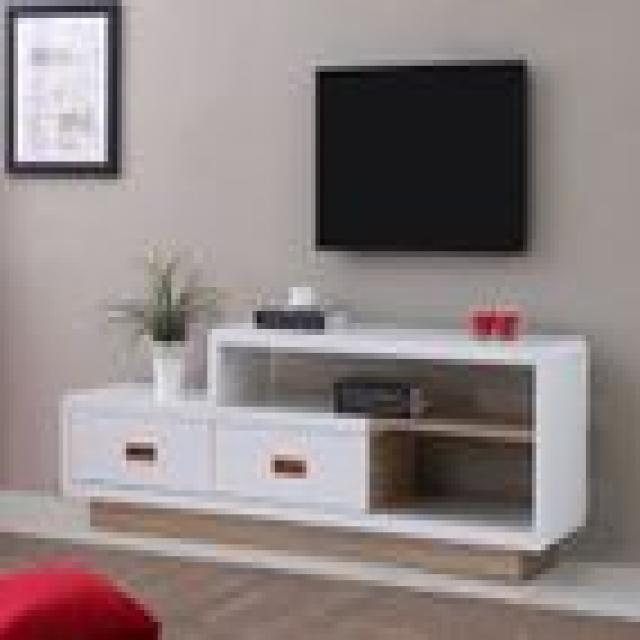others: (306, 54, 536, 263)
